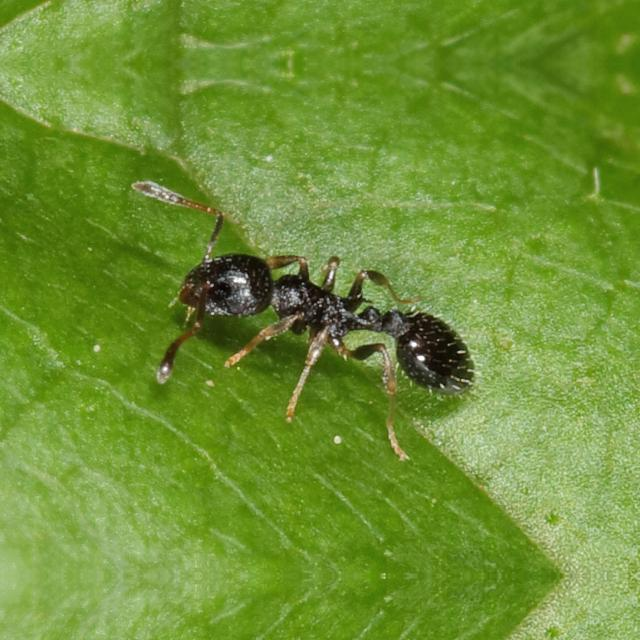Temnothorax: (147, 207, 497, 411)
